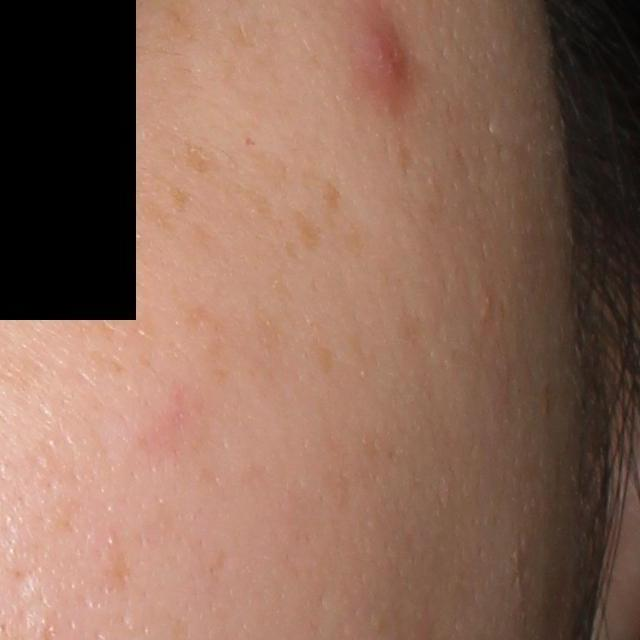melasma: (179, 300, 236, 381), (222, 180, 288, 240), (247, 148, 297, 204), (153, 168, 197, 216), (127, 196, 175, 238), (178, 137, 222, 179), (288, 203, 323, 254), (310, 328, 337, 377), (322, 176, 342, 228), (191, 219, 220, 248), (282, 238, 302, 264)
papule: (351, 11, 414, 111)
